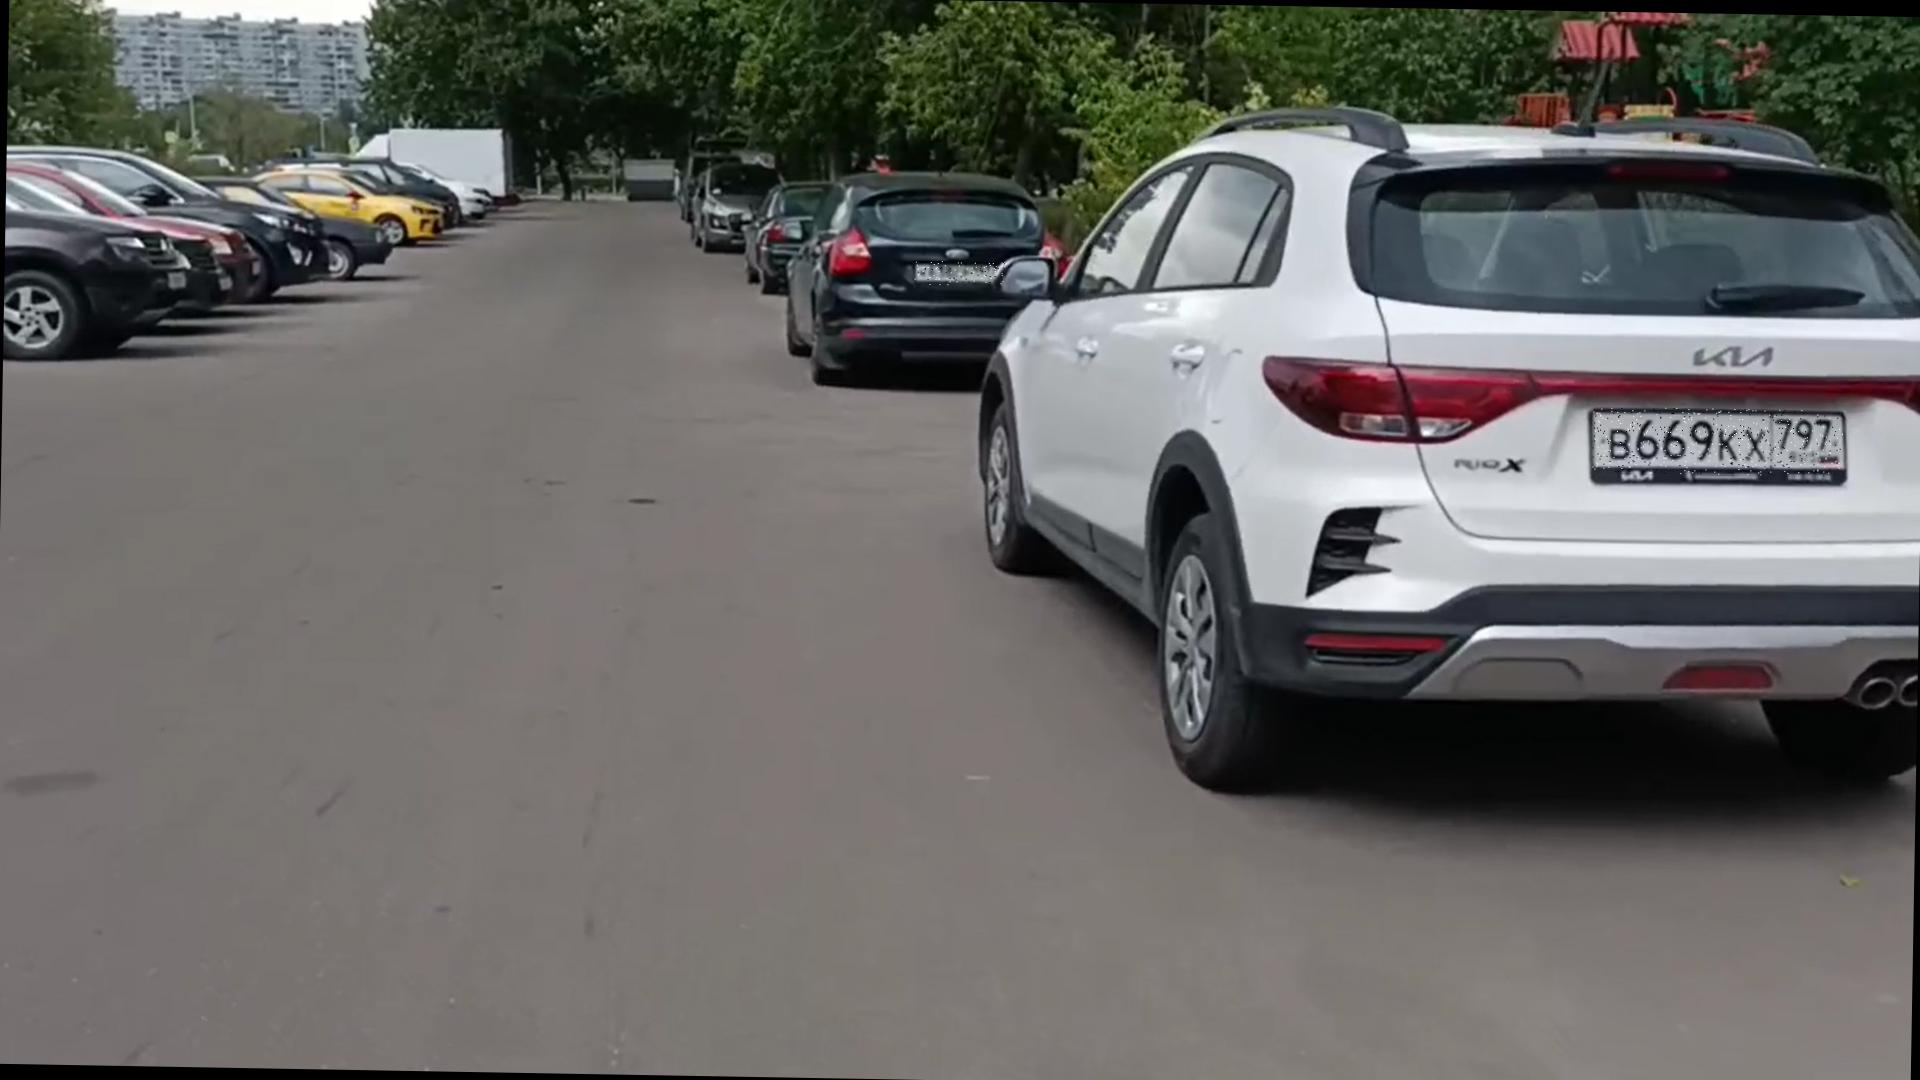plate: (1594, 408, 1845, 478), (914, 262, 1007, 287)
